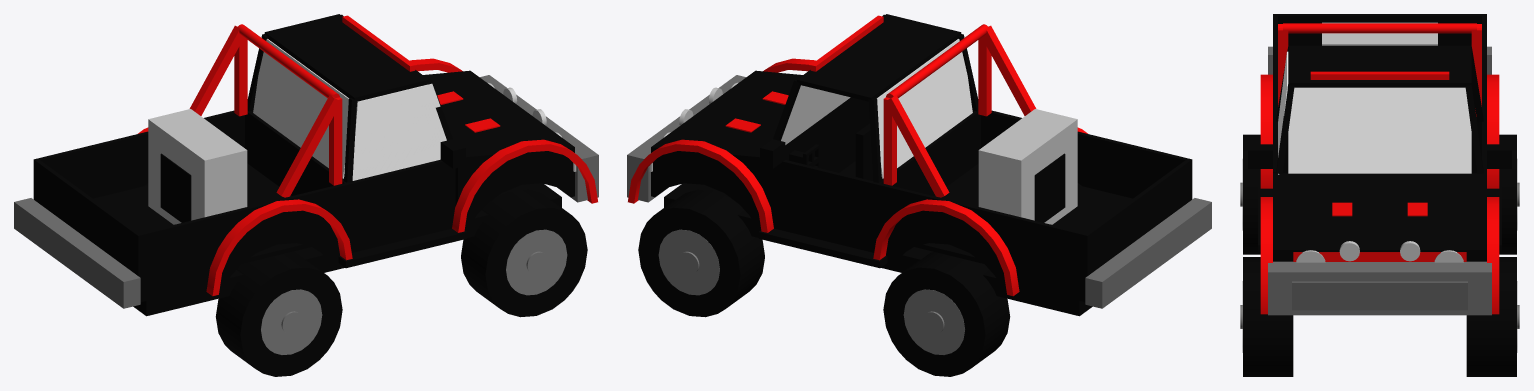
File: Gelende Wagen.fbx
3 views of the same model, side by side, from view 1: azimuth 30°, elevation 25°; view 2: azimuth 150°, elevation 25°; view 3: azimuth 270°, elevation 25° (orthographic). The views are drawn at different scales.
Visible parts, largest first — view 1: Bedr1, Tire3, Tire1, Sparetire1, Cablowerr1, Roof1, Sideglassr1, Hoodwedge1, Bedl1, Rearbumper1, Rearglass1, Tailgate1 (+20 smaller); view 2: Bedl1, Tire4, Tire2, Sparetire1, Hoodwedge1, Cablowerl1, Roof1, Bedr1, Nose1, Rearbumper1, Rearglass1, Tailgate1 (+22 smaller); view 3: Windshield1, Hoodwedge1, Frontbumper1, Roof1, Bullbar1, Tire3, Tire4, Tailgate1, Rollbartop1, Sparetire1, Tire1, Tire2 (+29 smaller).
Part boxes in pixels (bbox=[...]): Bedr1: bbox=[135, 182, 351, 301]; Tire3: bbox=[461, 189, 587, 317]; Tire1: bbox=[215, 252, 342, 376]; Sparetire1: bbox=[148, 109, 247, 224]; Cablowerr1: bbox=[349, 160, 455, 250]; Roof1: bbox=[264, 14, 429, 101]; Sideglassr1: bbox=[352, 83, 446, 180]; Hoodwedge1: bbox=[423, 70, 574, 175]; Bedl1: bbox=[33, 110, 244, 200]; Rearbumper1: bbox=[14, 198, 140, 308]; Rearglass1: bbox=[253, 39, 348, 178]; Tailgate1: bbox=[33, 158, 142, 301]; Bedl1: bbox=[874, 182, 1090, 301]; Tire4: bbox=[638, 189, 764, 317]; Tire2: bbox=[883, 252, 1010, 376]; Sparetire1: bbox=[978, 109, 1077, 224]; Hoodwedge1: bbox=[651, 70, 868, 175]; Cablowerl1: bbox=[768, 160, 876, 250]; Roof1: bbox=[796, 14, 961, 101]; Bedr1: bbox=[981, 110, 1192, 200]; Nose1: bbox=[651, 102, 869, 222]; Rearbumper1: bbox=[1085, 198, 1211, 308]; Rearglass1: bbox=[877, 39, 972, 178]; Tailgate1: bbox=[1083, 160, 1192, 301]; Windshield1: bbox=[1288, 87, 1471, 173]; Hoodwedge1: bbox=[1273, 173, 1486, 249]; Frontbumper1: bbox=[1268, 261, 1491, 315]; Roof1: bbox=[1288, 45, 1471, 87]; Bullbar1: bbox=[1292, 281, 1467, 310]; Tire3: bbox=[1243, 257, 1293, 376]; Tire4: bbox=[1466, 257, 1516, 376]; Tailgate1: bbox=[1276, 14, 1486, 45]; Rollbartop1: bbox=[1283, 23, 1476, 33]; Sparetire1: bbox=[1322, 22, 1437, 45]; Tire1: bbox=[1243, 134, 1260, 254]; Tire2: bbox=[1499, 134, 1516, 254].
Bounding box in the file's own units: 937 × 471 × 463.
